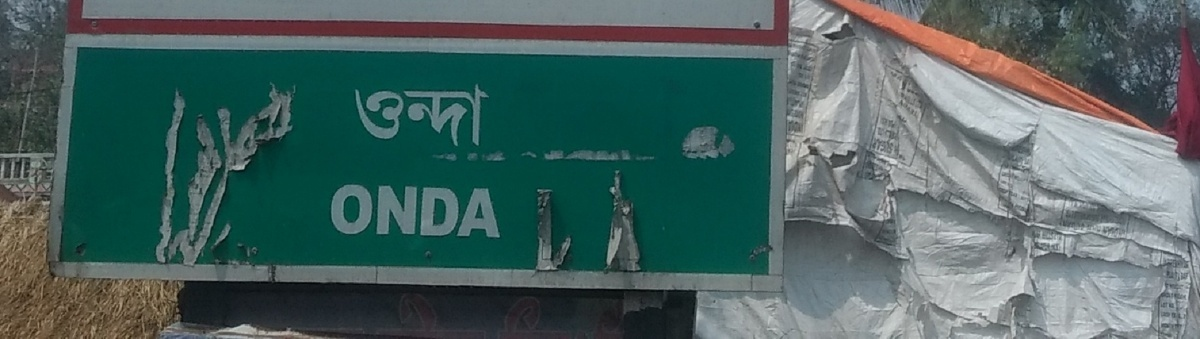text: (353, 79, 368, 150), (369, 79, 384, 150), (385, 79, 400, 150), (401, 79, 416, 150), (417, 79, 432, 150), (433, 79, 448, 150), (449, 79, 464, 150), (465, 79, 480, 150), (481, 79, 496, 150), (337, 181, 352, 242), (353, 181, 368, 242), (369, 181, 384, 242), (385, 181, 400, 242), (401, 181, 416, 242), (417, 181, 432, 242), (433, 181, 448, 242), (449, 181, 464, 242), (465, 181, 480, 242), (481, 181, 496, 242), (497, 181, 506, 242), (329, 181, 336, 242), (347, 79, 352, 150), (497, 79, 502, 150)
